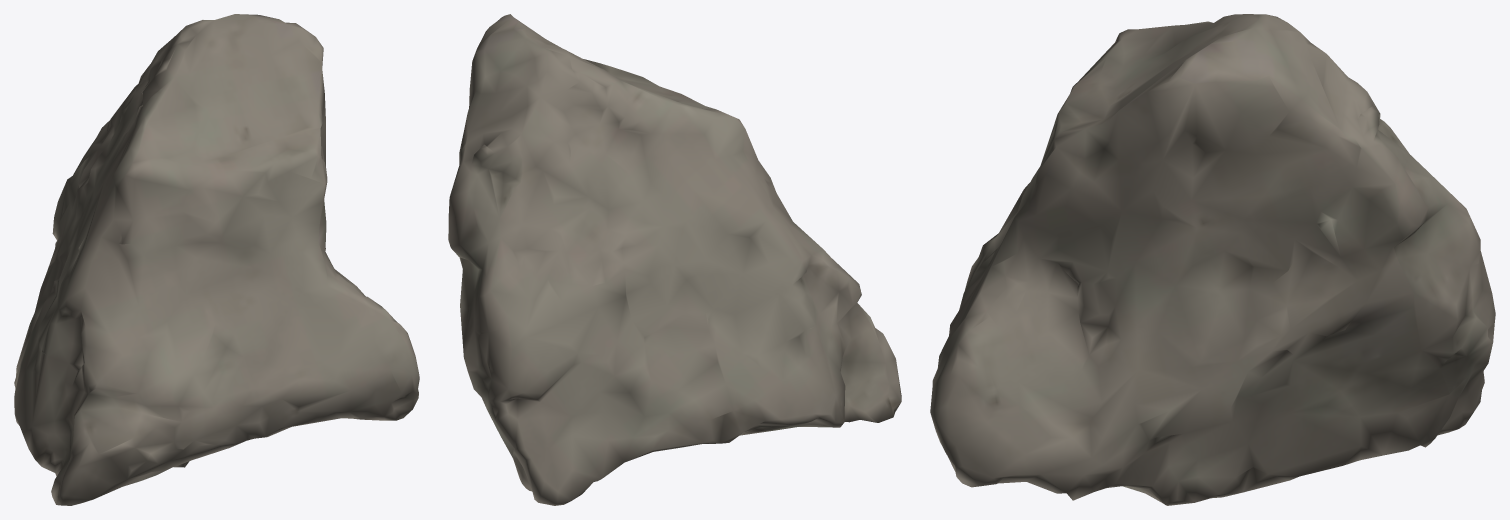
Rendered from stone_b.glb.
3 renders of one model, left to right at view 1: azimuth 30°, elevation 25°; view 2: azimuth 150°, elevation 25°; view 3: azimuth 270°, elevation 25°, orthographic. The views are drawn at different scales.
Visible parts, largest first — view 1: moon_rock_05_LOD0; view 2: moon_rock_05_LOD0; view 3: moon_rock_05_LOD0.
Part boxes in pixels (left/top/right/bottom): moon_rock_05_LOD0: left=14, top=14, right=419, bottom=505; moon_rock_05_LOD0: left=448, top=14, right=901, bottom=505; moon_rock_05_LOD0: left=930, top=14, right=1495, bottom=505.
Bounding box in the file's own units: 0.0717 × 0.0734 × 0.0811.
1 material, 1 textured.
